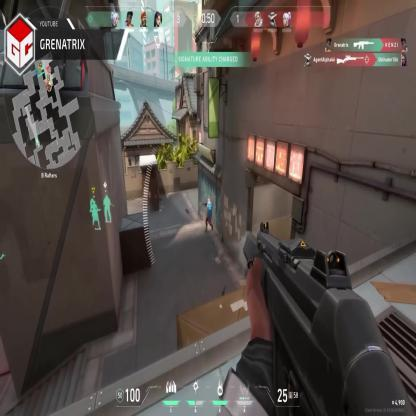enemy: (205, 199, 213, 234)
enemy_head: (208, 199, 210, 204)
